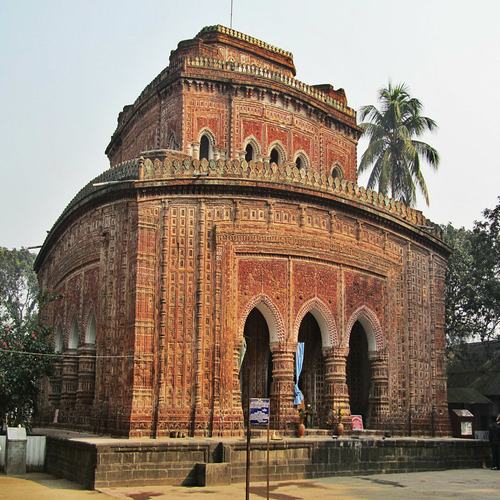Temple: (26, 24, 457, 441)
